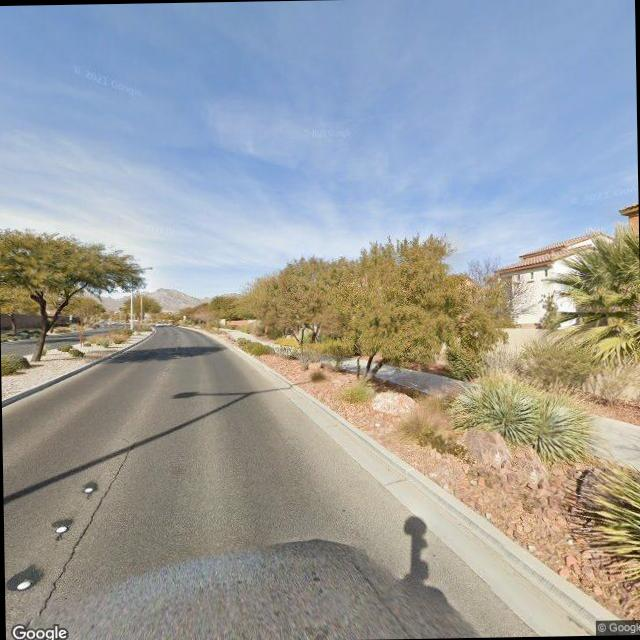crack: (7, 443, 135, 640)
